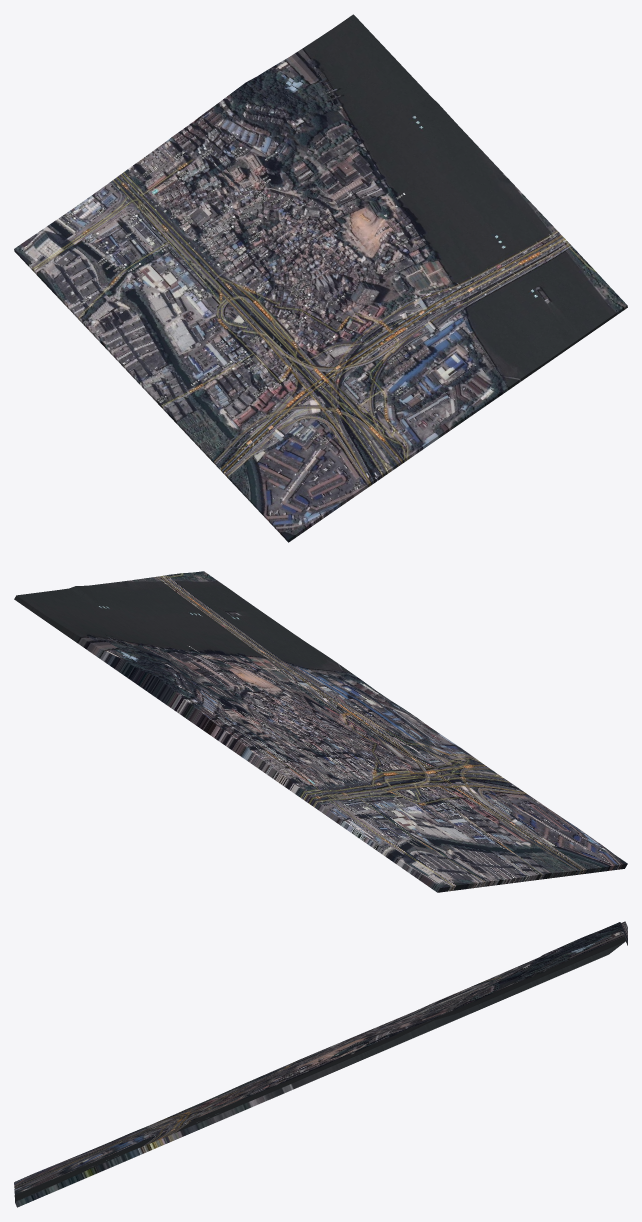
3 renders of one model, top to bottom at view 1: azimuth 30°, elevation 25°; view 2: azimuth 150°, elevation 25°; view 3: azimuth 270°, elevation 25°, orthographic. The views are drawn at different scales.
Visible parts, largest first — view 1: 1_1_1; view 2: 1_1_1; view 3: 1_1_1.
Boxes of the visible parts, <box> form: 1_1_1: <box>14,14,627,542</box>; 1_1_1: <box>14,571,627,892</box>; 1_1_1: <box>14,921,627,1207</box>.
Bounding box in the file's own units: 1227 × 892 × 1124.
1 material, 1 textured.
